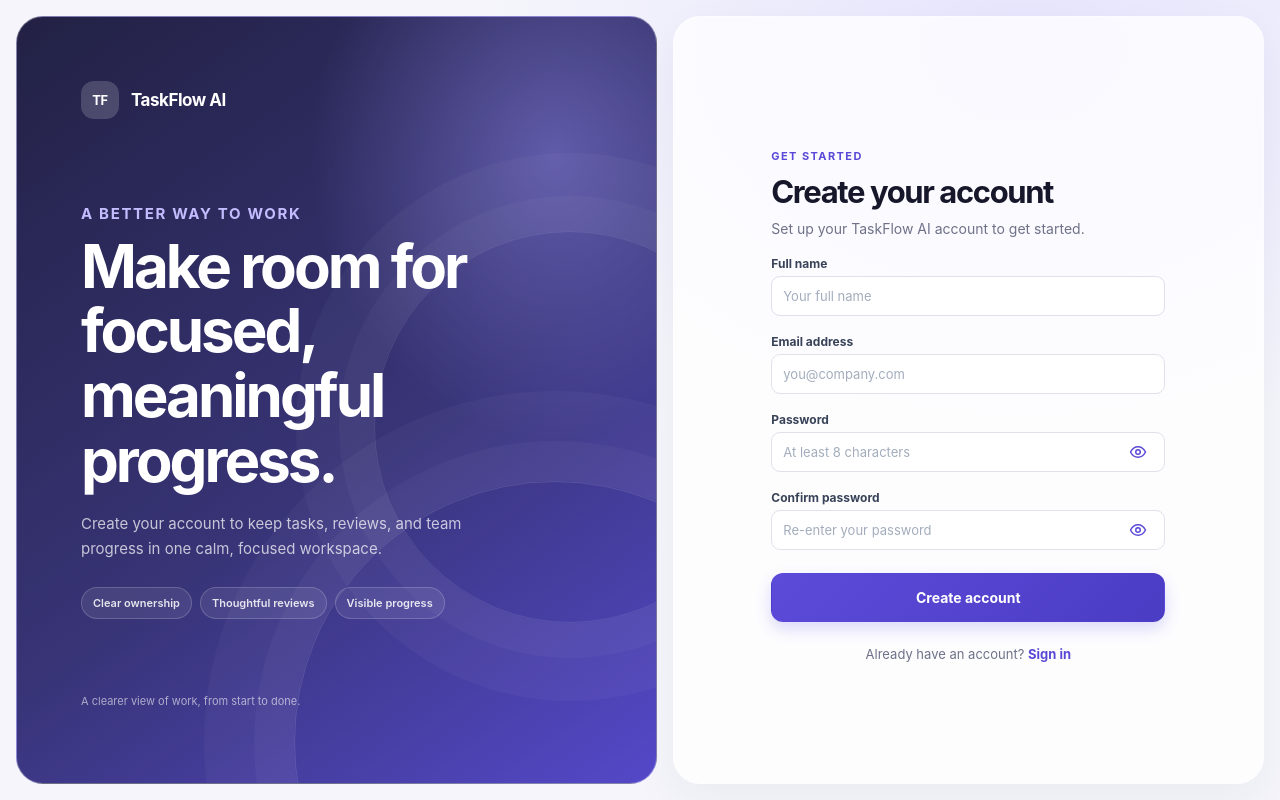
RegistrationForm › shows duplicate-email errors from the API
Type "Taylor Example" into the field labelled "Full name". click: (968, 296)
box: [771,276,1165,316]
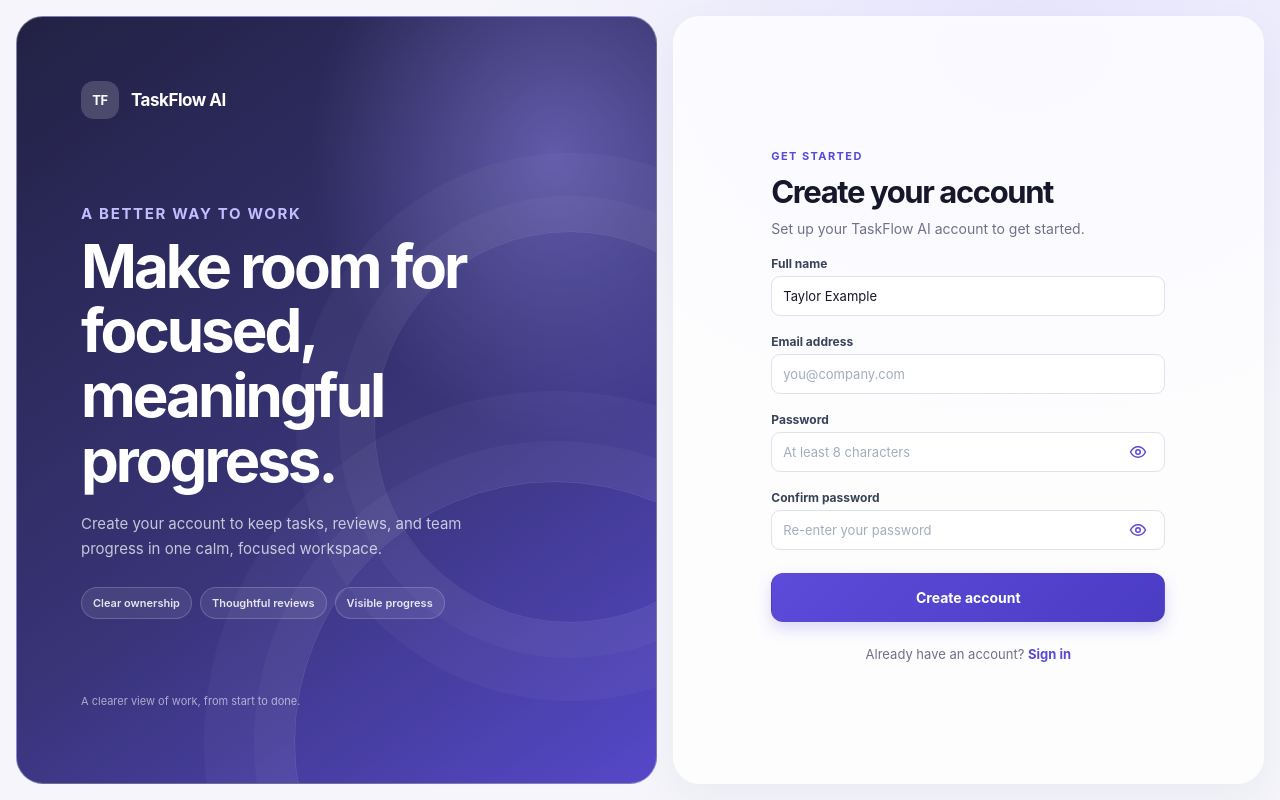
Type "taylor@example.com" into the field labelled "Email address". click: (968, 374)
box: [771,354,1165,394]
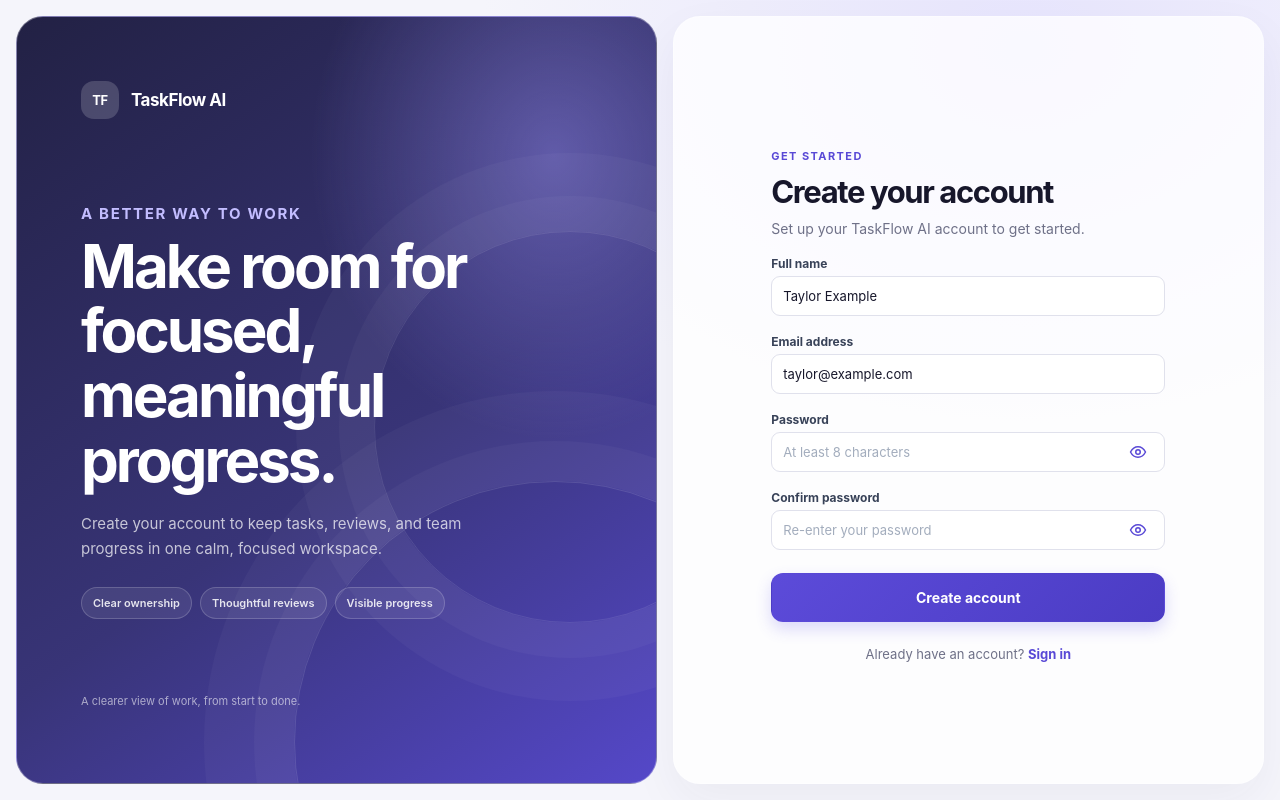
Type "Password123" into the password field labelled "Password". click: (968, 452)
box: [771,432,1165,472]
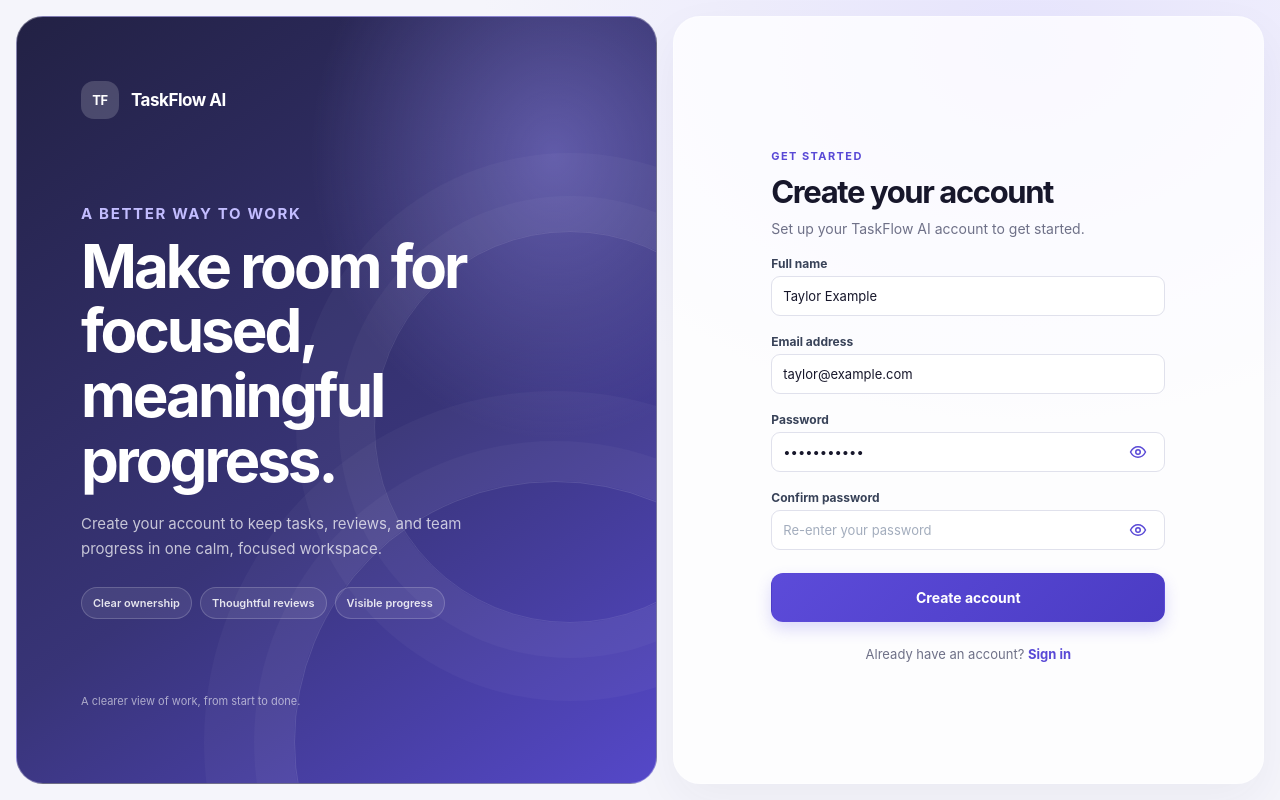
Type "Password123" into the password field labelled "Confirm password". click: (968, 530)
box: [771,510,1165,550]
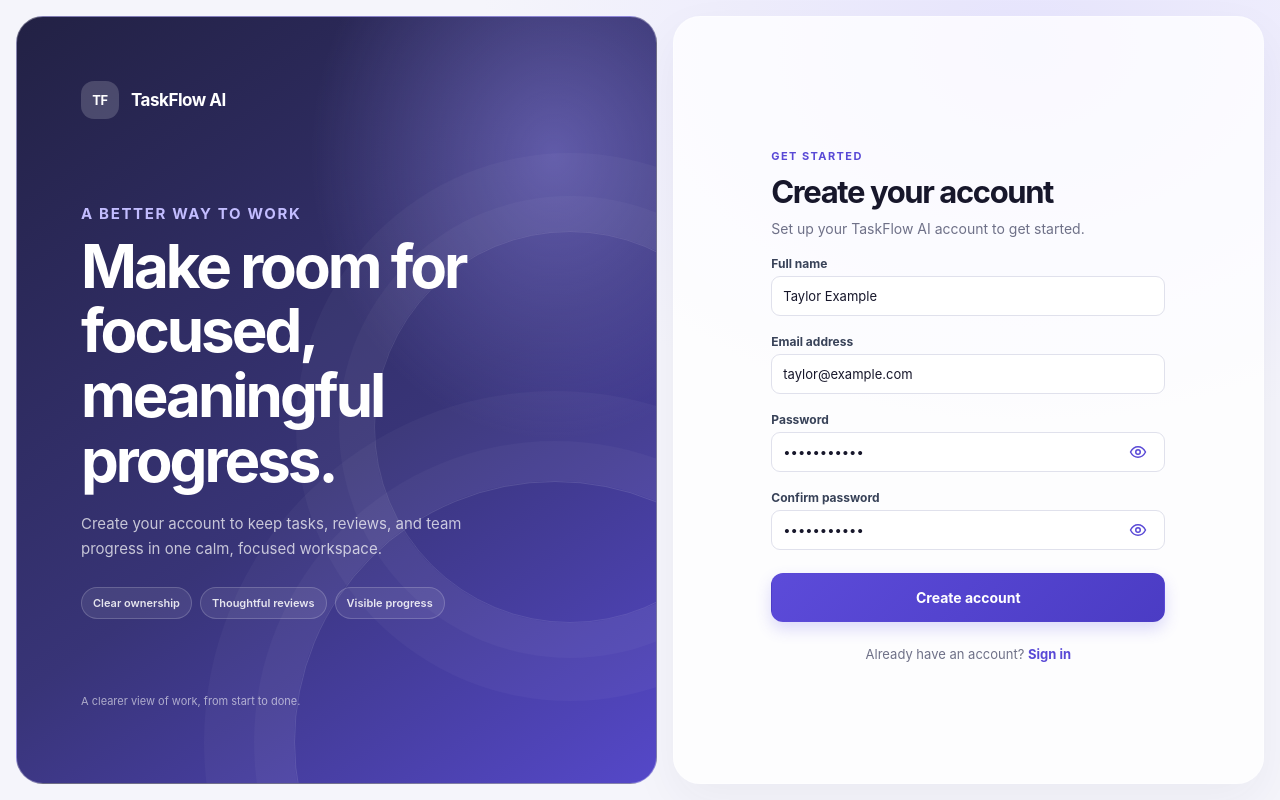
Click the button "Create account". click: (968, 597)
box: [771,573,1165,622]
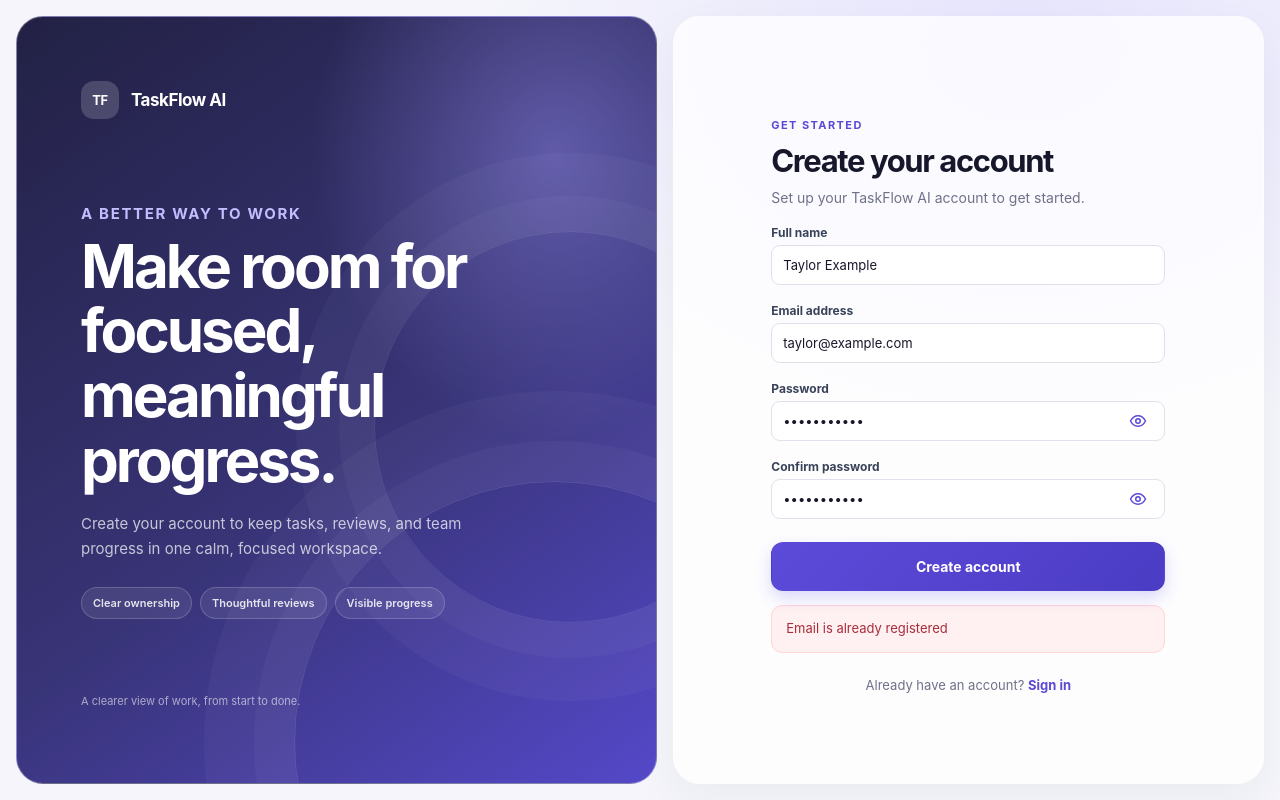
Check: the message reads "Email is already registered", box [786,620,948,636]
